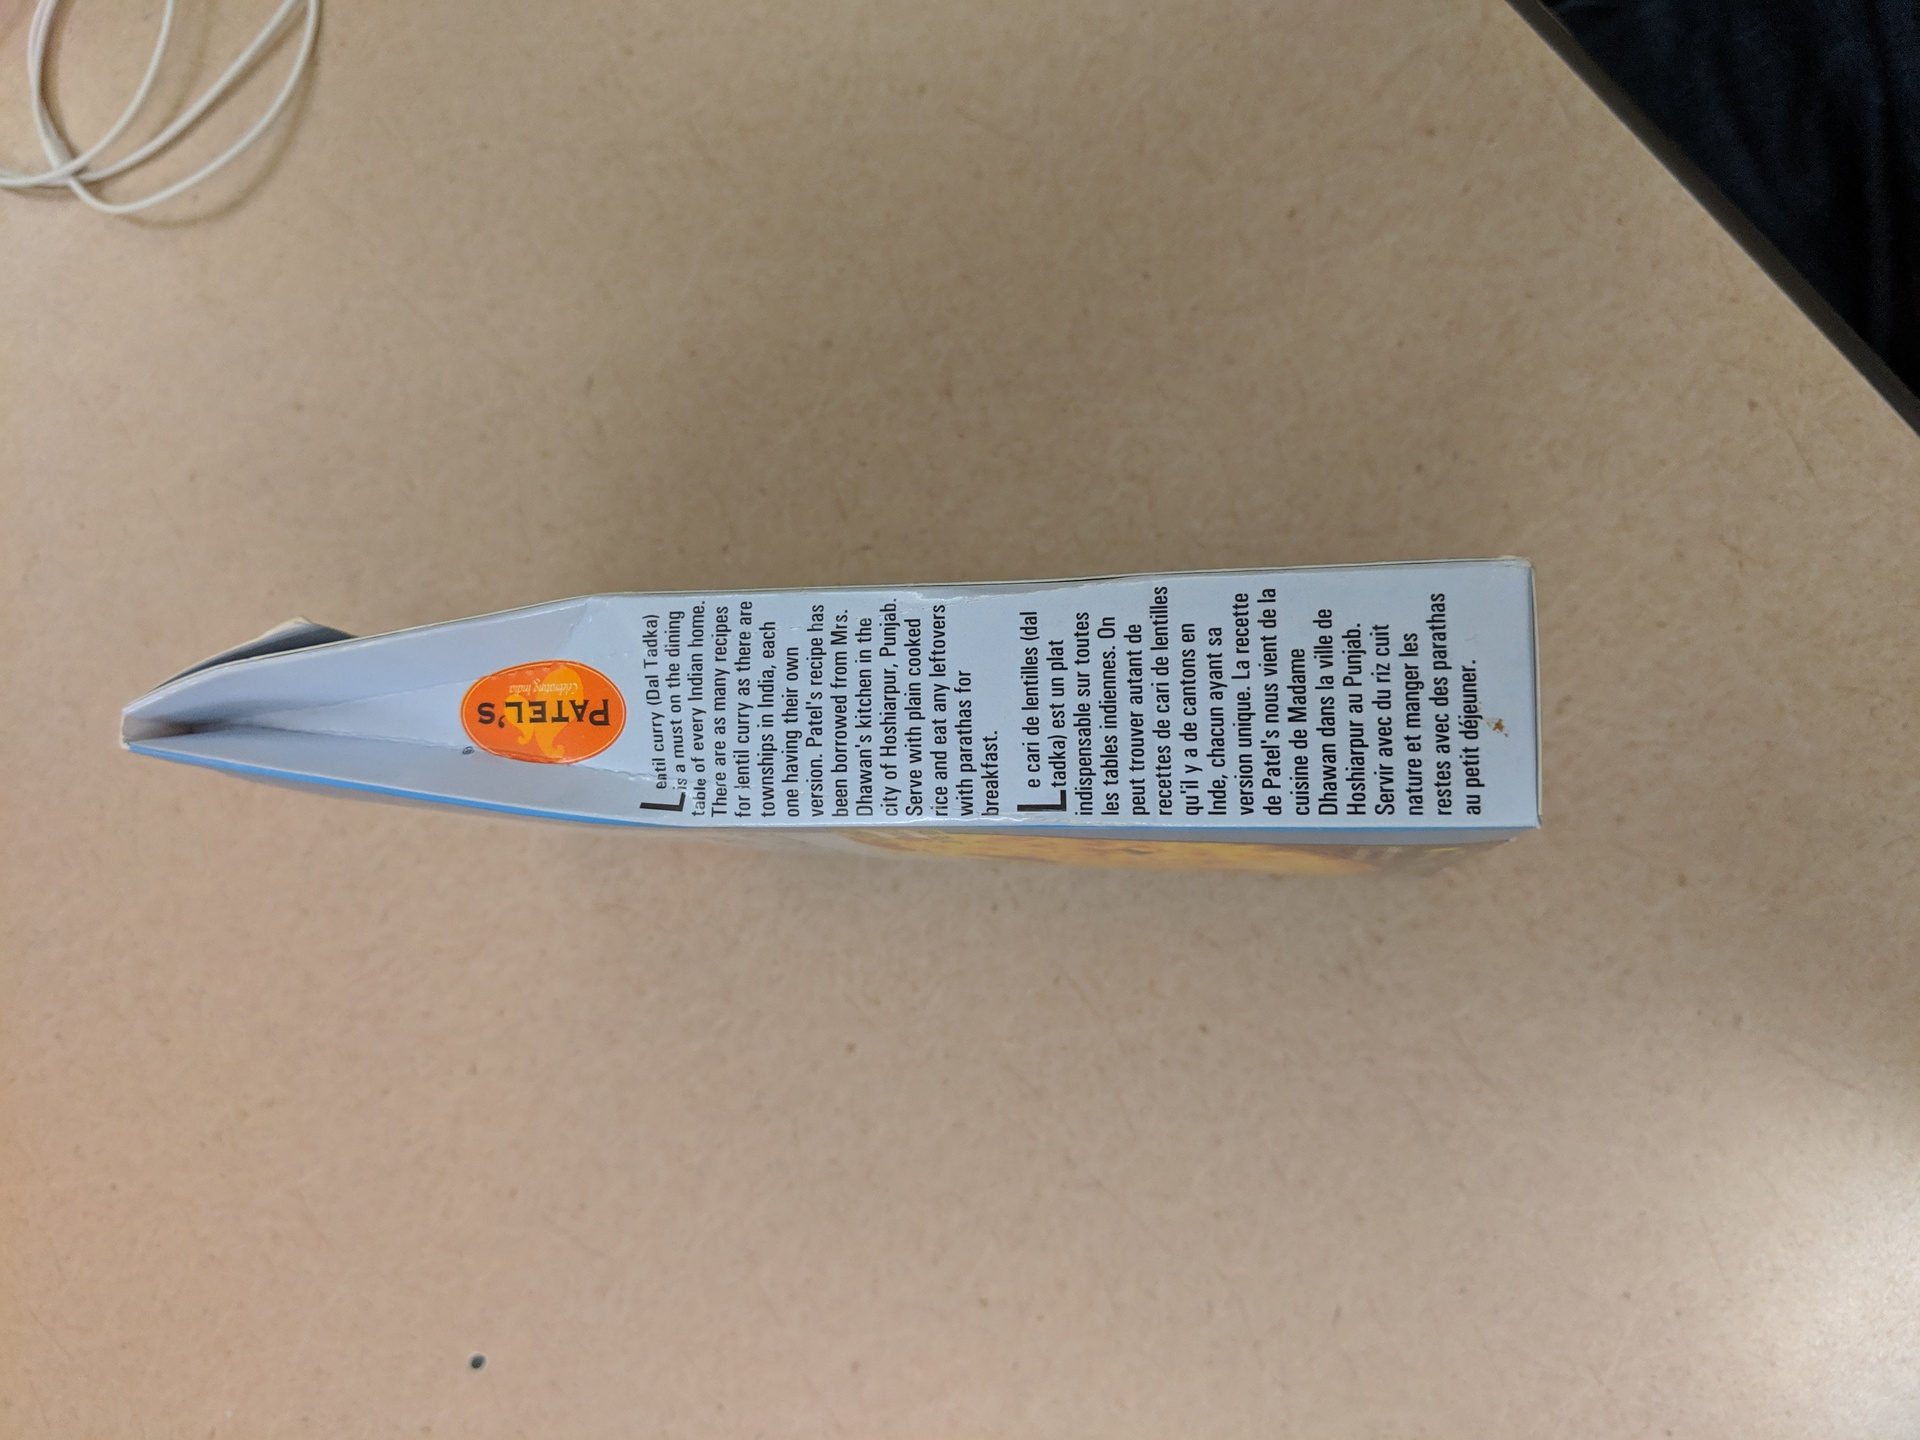patels_dal_tadka_lentil_curry: (97, 542, 1586, 892)
